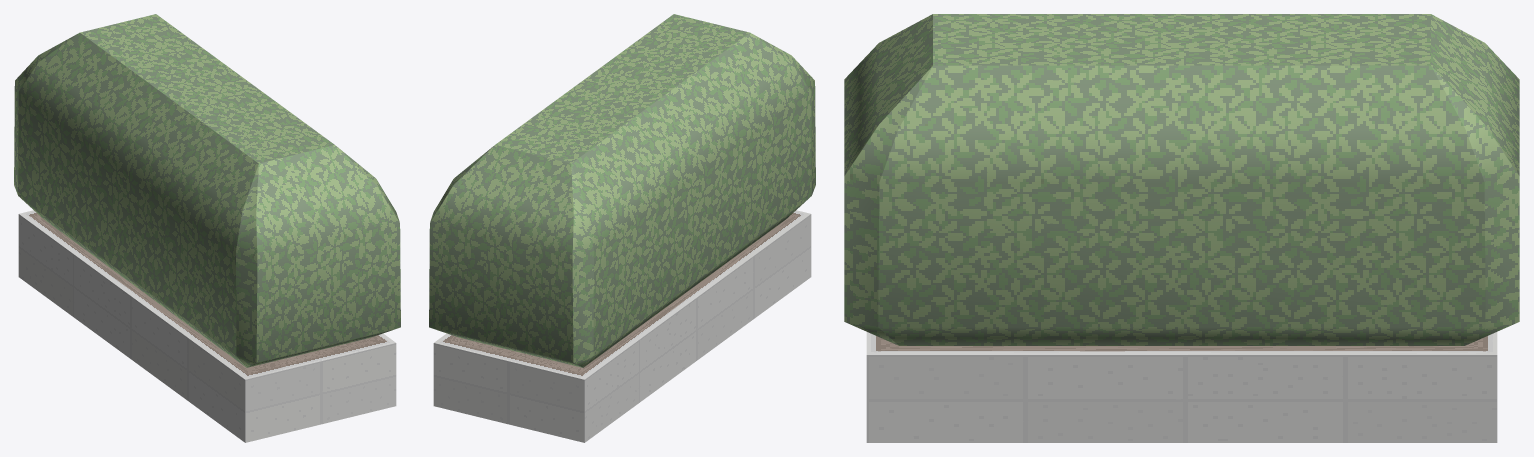
File: 00eb_Squared_Shrubbery.glb
The picture shows the model from 3 angles, left to right: view 1: azimuth 30°, elevation 25°; view 2: azimuth 150°, elevation 25°; view 3: azimuth 270°, elevation 25°; orthographic projection. The views are drawn at different scales.
Parts seen in each view (by area): view 1: part_0; view 2: part_0; view 3: part_0.
Part boxes in pixels (box(x1,y1,x2,y2)): part_0: box(14, 14, 400, 442); part_0: box(429, 14, 815, 442); part_0: box(844, 14, 1519, 442).
Bounding box in the file's own units: 0.5313 × 0.8 × 1.39.
1 material, 1 textured.
